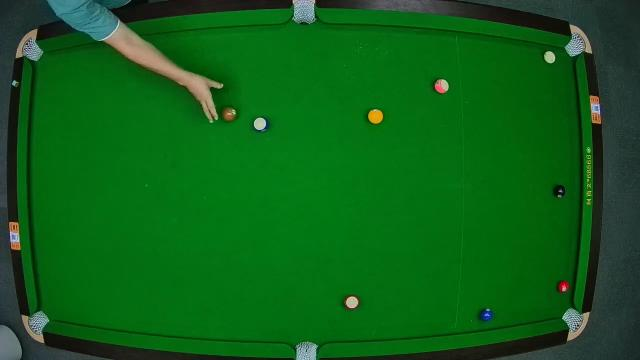bag1: (20, 40, 42, 62)
bag2: (292, 1, 316, 26)
bag3: (566, 36, 586, 58)
bag4: (29, 311, 49, 333)
bag5: (295, 340, 319, 360)
bag6: (562, 308, 582, 330)
ball0: (544, 51, 558, 65)
ball1: (368, 110, 384, 126)
ball10: (253, 116, 269, 134)
ball11: (344, 295, 360, 311)
ball12: (434, 78, 450, 94)
ball2: (480, 308, 494, 322)
ball3: (558, 279, 570, 293)
ball7: (223, 108, 237, 122)
ball8: (554, 185, 566, 198)
